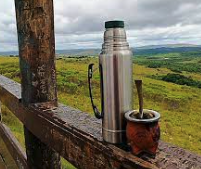calabaza: (124, 109, 160, 157)
mate: (122, 76, 164, 156)
